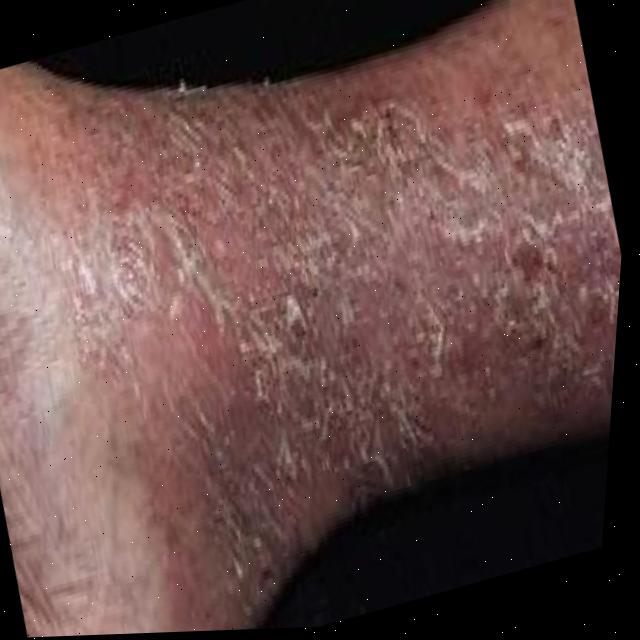Eczema: (80, 22, 637, 515)
